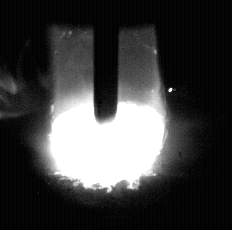arame: (94, 0, 119, 124)
poca: (47, 0, 166, 230)
